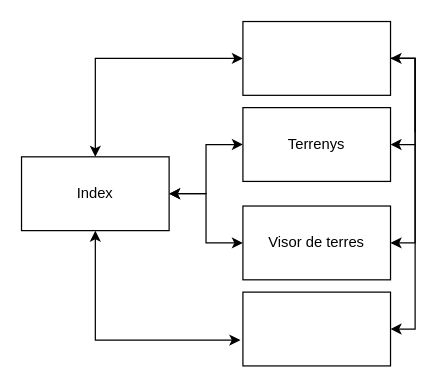
The diagram is 446 pixels wide and 387 high, and some of its shapes have lost their labels. Each missing label, with the centre of its shape:
"Contacte" belongs at (316,328).
"El projecte" belongs at (316,57).
